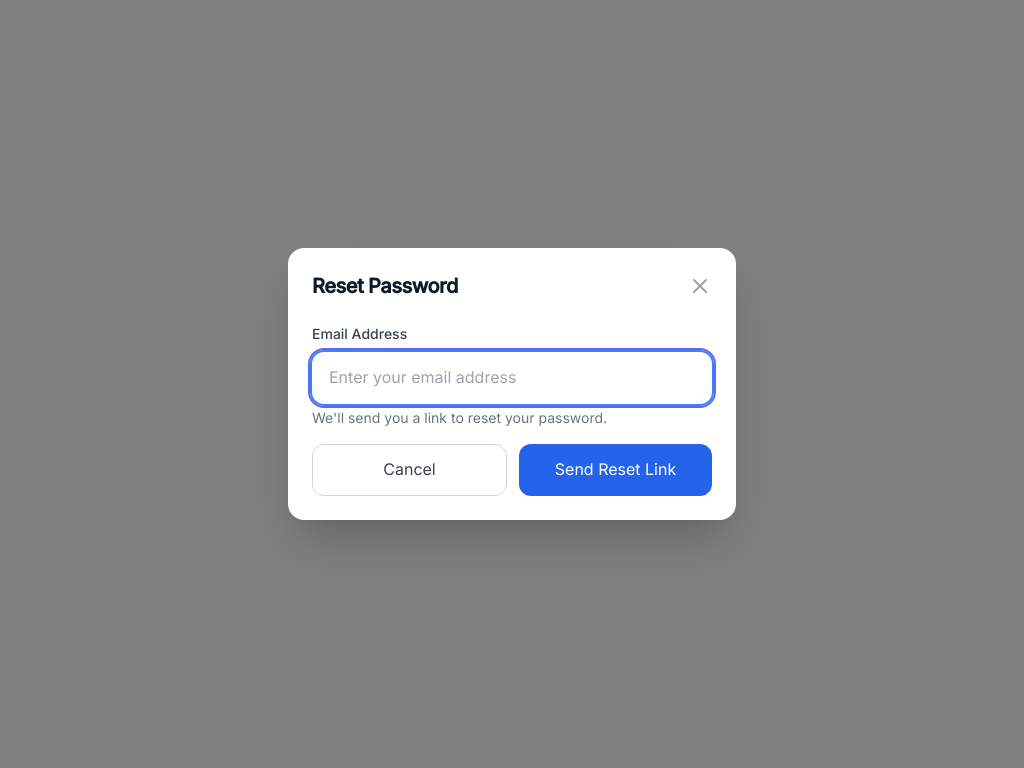
Test: PasswordRecovery — submission and feedback › prevents duplicate submissions while a request is in flight
Type "shopper@example.com" into the field labelled "Email Address" at [512, 378], box [312,352,712,404]
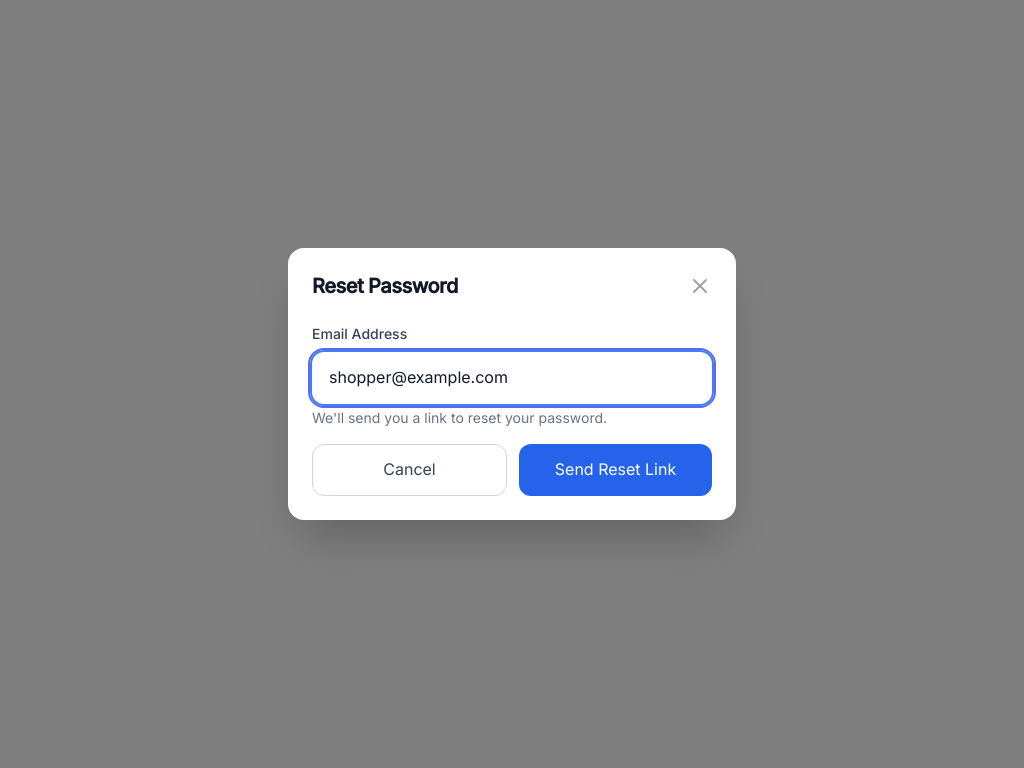
Click the button "Send Reset Link" at [616, 470], box [519,444,712,496]
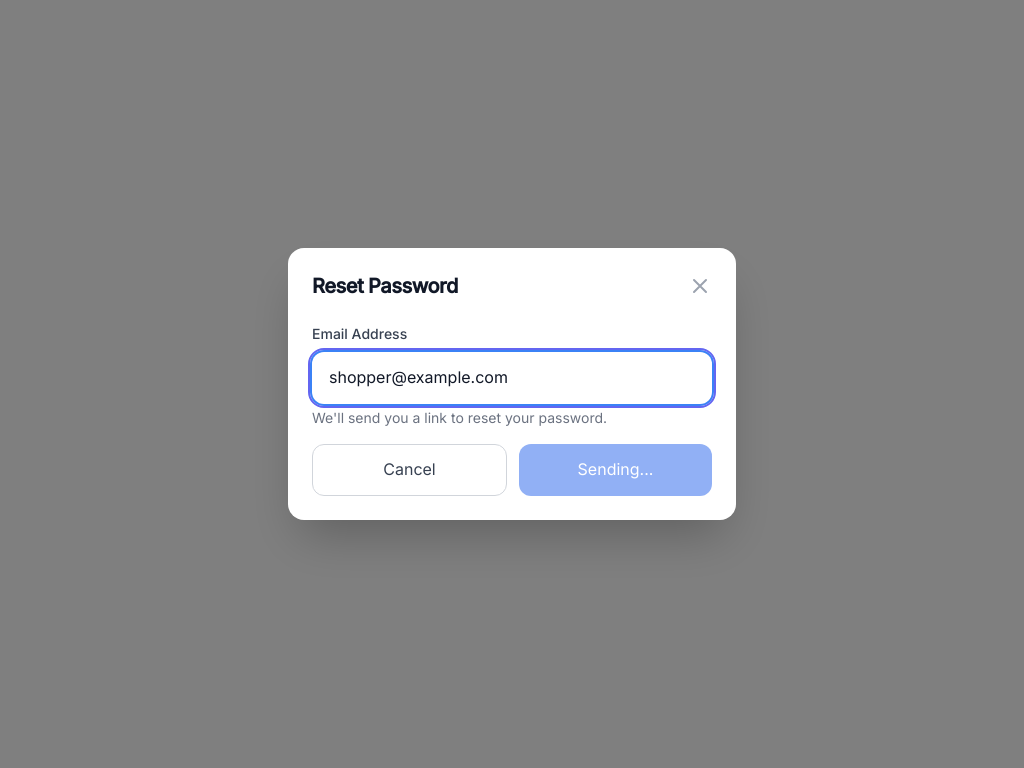
Click the button named "send reset link" at [616, 470], box [519,444,712,496]
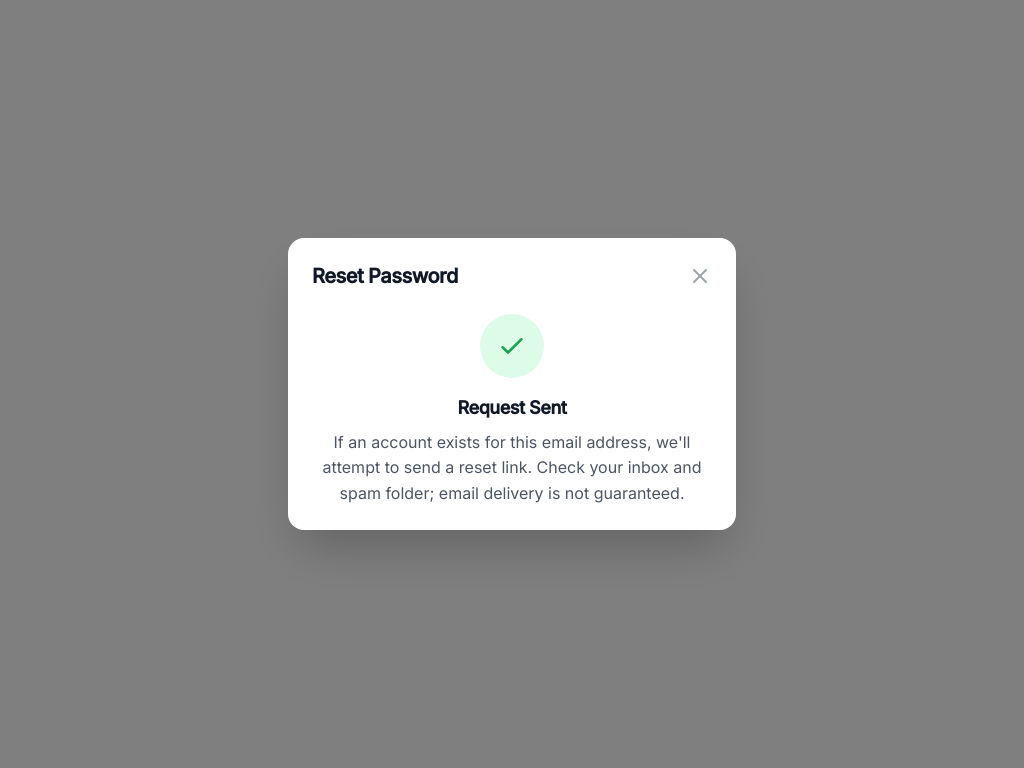
expect the text "If an account exists" is shown: met, box [322,432,702,503]
